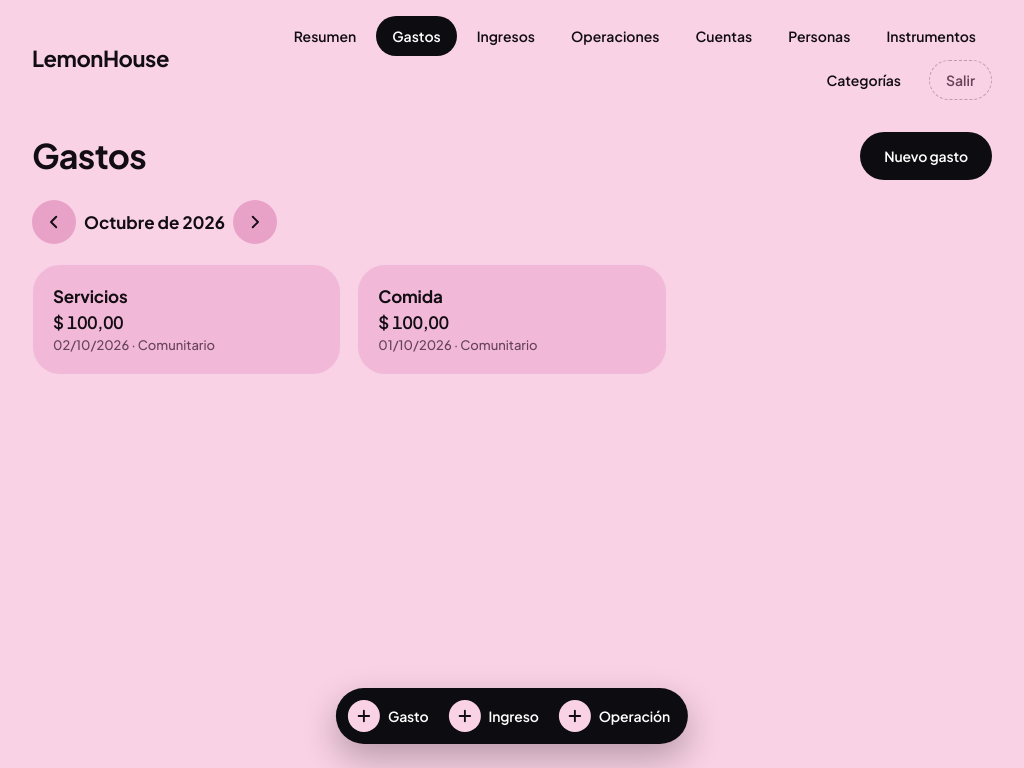
Scenario: gastos › la lista muestra los gastos de un mes, del más nuevo al más viejo, y se puede cambiar de mes
The width and height of the screenshot is (1024, 768).
Expected: the link "Servicios $ 100,00 02/10/2026 · Comunitario" is shown, [32, 264, 341, 375]
Expected: the text "Del mes pasado" is not shown
Click the button named "Mes anterior" at coordinates (54, 222), box [32, 200, 76, 244]
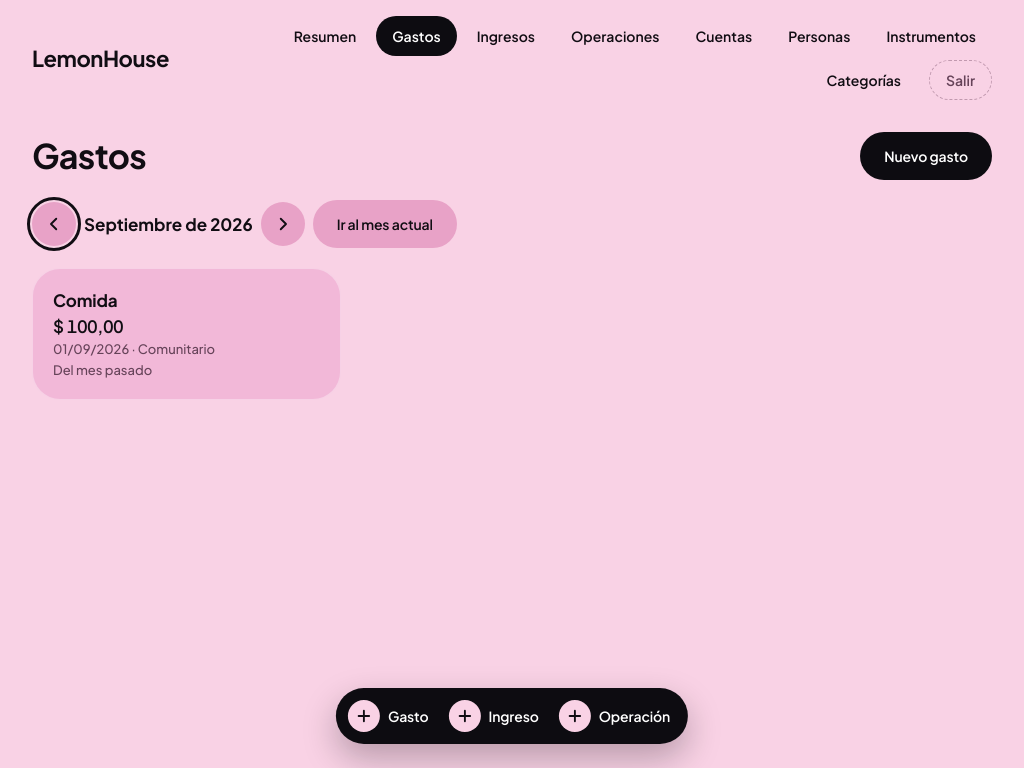
Result: the text "Del mes pasado" is shown at [53, 362, 152, 378]
Result: the number of links "Comida $ 100,00 01/09/2026 · Comunitario Del mes pasado" is 1 at [32, 268, 341, 400]
Click the button "Ir al mes actual" at coordinates (385, 224), box [313, 200, 457, 248]
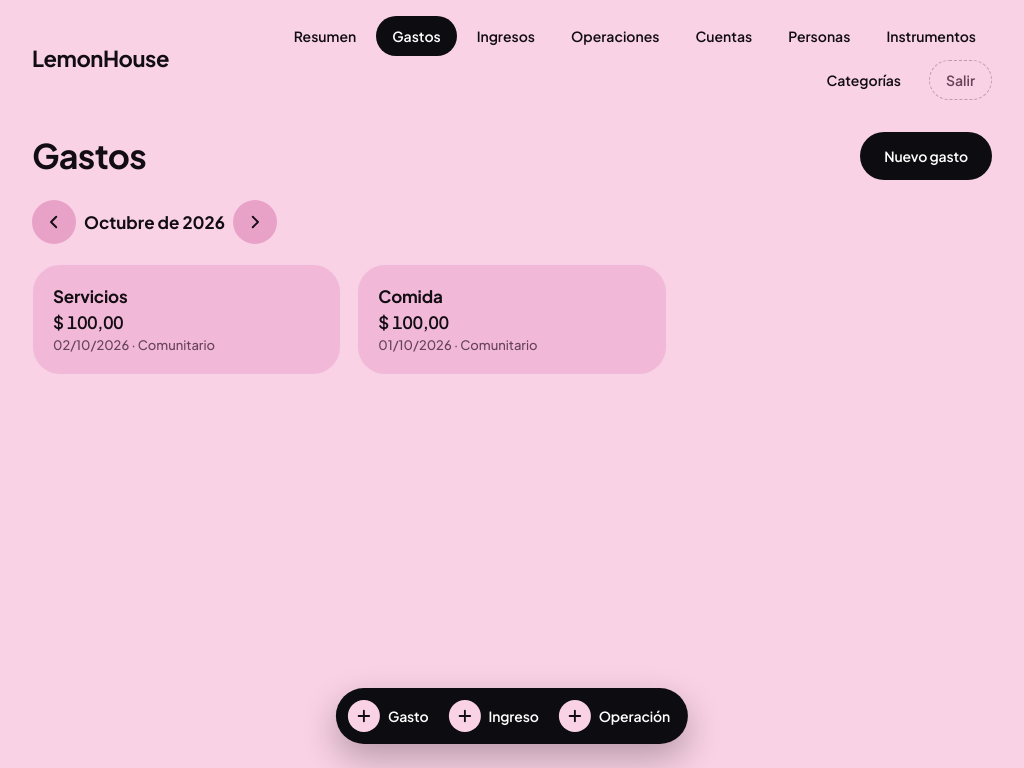
Result: the link "Servicios $ 100,00 02/10/2026 · Comunitario" is shown at [32, 264, 341, 375]
